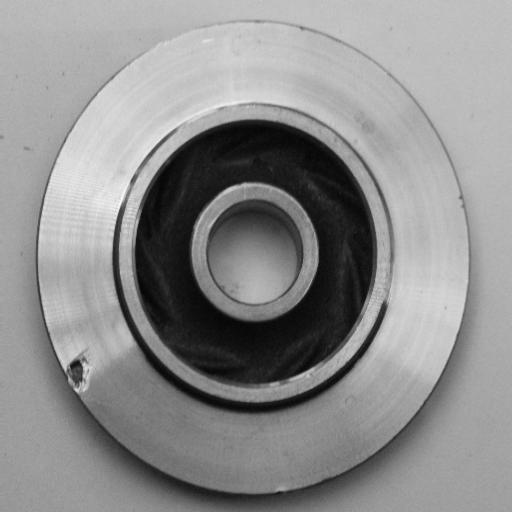crack: (57, 340, 113, 404)
scratch: (162, 99, 244, 132)
unpolished_casting: (32, 15, 472, 499)
